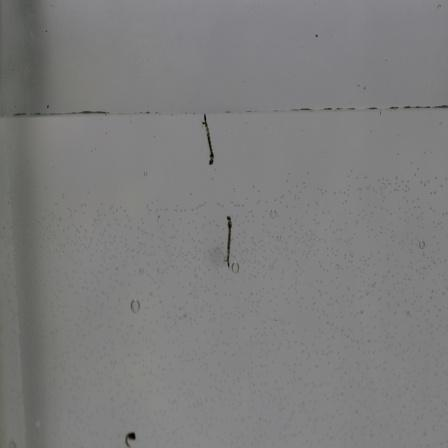Jentik-Nyamuk: (198, 112, 220, 168), (223, 212, 238, 271), (122, 426, 139, 448)
